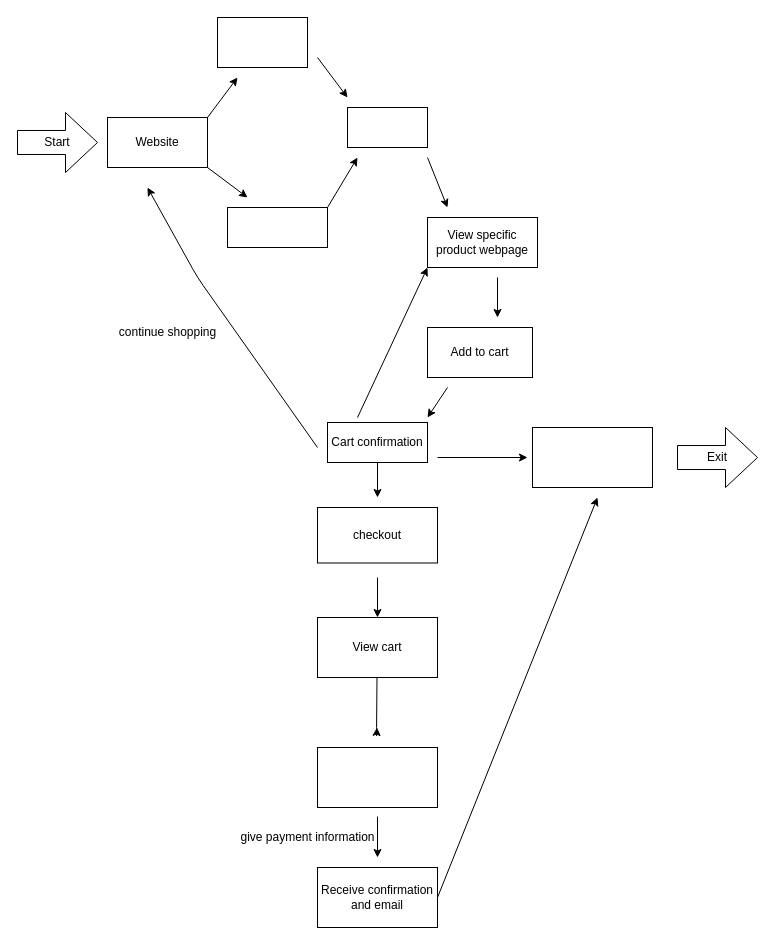
Image size: 775x945. Some labels were removed from this diagram. The shapes that lost their labels are listed below. From the top down, each one's centre as x and y in pixels, then its label:
(262,42): Search for a product (Prompt search)
(387,127): View all products displayed
(277,227): Explore products
(592,457): Leave website
(377,777): View payment
